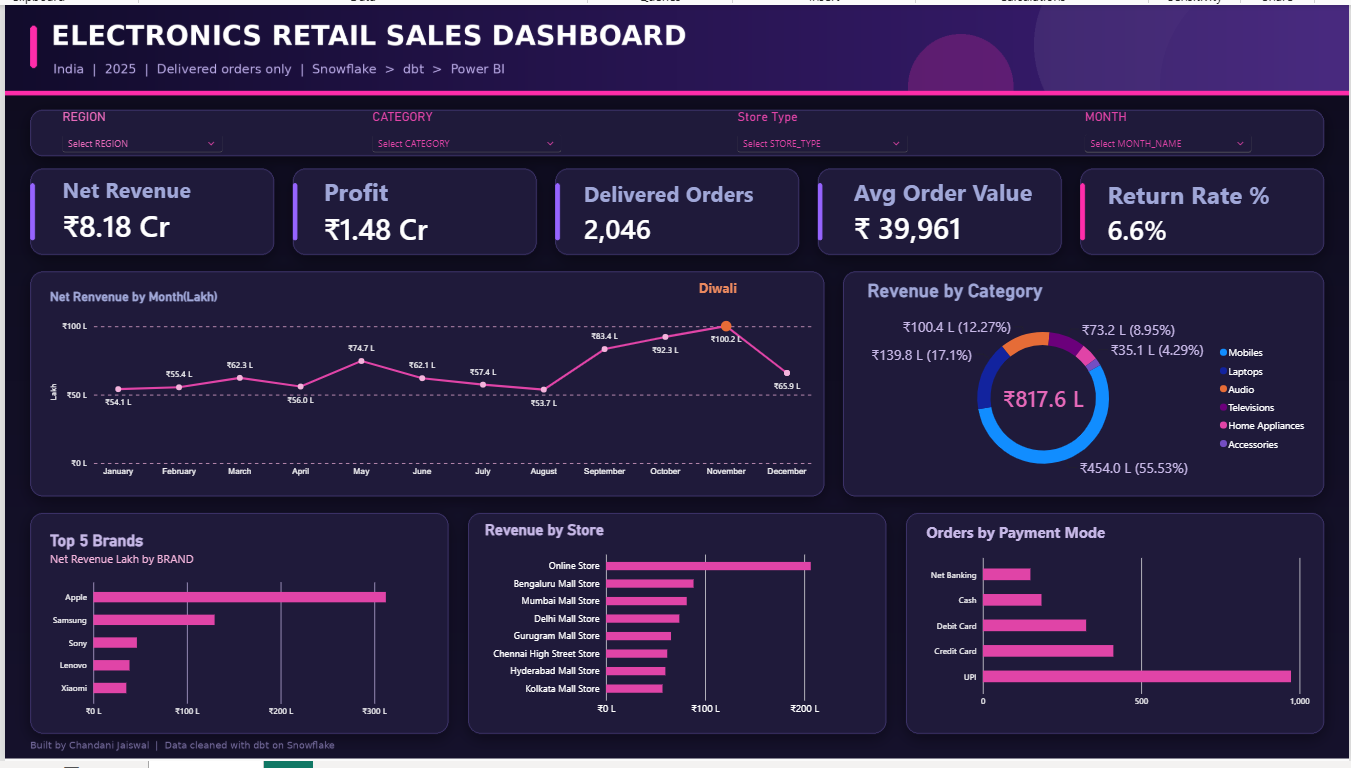

The page's visual inventory and layout, read from the dashboard file:
{"tool":"powerbi","page":{"name":"Overview","canvas":[1920,1080],"ordinal":0},"visuals":[{"type":"cardVisual","fields":{"Data":["FCT_SALES.Net cr Revenue"]},"box":[66.1,237.5,307.1,112.5],"z":0},{"type":"cardVisual","title":"Profit","fields":{"Data":["FCT_SALES.Total Cr Profit"]},"box":[439.3,239.3,300.5,112],"z":1000},{"type":"cardVisual","fields":{"Data":["FCT_SALES.Delivered Orders"]},"box":[810.7,241.1,300.5,112],"z":2000},{"type":"cardVisual","fields":{"Data":["FCT_SALES.Avg Order Value"]},"box":[1196.4,239.3,300.5,112],"z":3000},{"type":"cardVisual","fields":{"Data":["FCT_SALES.Return Rate %"]},"box":[1558.9,241.1,300.5,112],"z":4000},{"type":"lineChart","title":"Net Renvenue by Month(Lakh)","fields":{"Category":["DIM_DATE.MONTH_NAME"],"Y":["FCT_SALES.Net Revenue Lakh"]},"box":[48.2,391.1,1119.6,301.8],"z":5000},{"type":"donutChart","title":"Revenue by Category","fields":{"Category":["DIM_PRODUCTS.CATEGORY"],"Y":["FCT_SALES.Net Revenue Lakh"]},"box":[1216.1,378.6,665,320],"z":6000},{"type":"clusteredBarChart","title":"Top 5 Brands","fields":{"Category":["DIM_PRODUCTS.BRAND"],"Y":["FCT_SALES.Net Revenue Lakh"]},"box":[48.2,737.5,580.4,300],"z":7000},{"type":"clusteredBarChart","title":" Revenue by Store","fields":{"Category":["DIM_STORES.STORE_NAME"],"Y":["FCT_SALES.Net Revenue Lakh"]},"box":[670.4,723.9,580,312.6],"z":8000},{"type":"clusteredBarChart","fields":{"Category":["FCT_SALES.PAYMENT_MODE"],"Y":["FCT_SALES.Delivered Orders"]},"box":[1299.8,723.9,580.4,300],"z":9000},{"type":"textbox","box":[991.1,391.1,58.9,50],"z":9001},{"type":"listSlicer","fields":{"Values":["DIM_STORES.REGION"]},"box":[66.1,133.9,260.7,103.6],"z":9002},{"type":"listSlicer","fields":{"Values":["DIM_PRODUCTS.CATEGORY"]},"box":[508.9,133.9,301.8,78.6],"z":9003},{"type":"listSlicer","title":"Store Type","fields":{"Values":["DIM_STORES.STORE_TYPE"]},"box":[1030.4,133.9,275,89.3],"z":9004},{"type":"listSlicer","title":"MONTH","fields":{"Values":["DIM_DATE.MONTH_NAME"]},"box":[1526.8,133.9,269.6,78.6],"z":9005}]}

Visuals, with their boxes on the page's 1920x1080 design canvas (x1, y1, x2, y2). These are canvas units, not pixel positions in the 1351x768 screenshot, which may show the page scaled, cropped or inside an application window:
cardVisual - FCT_SALES.Net cr Revenue: (left=66, top=238, right=373, bottom=350)
"Profit" cardVisual: (left=439, top=239, right=740, bottom=351)
cardVisual - FCT_SALES.Delivered Orders: (left=811, top=241, right=1111, bottom=353)
cardVisual - FCT_SALES.Avg Order Value: (left=1196, top=239, right=1497, bottom=351)
cardVisual - FCT_SALES.Return Rate %: (left=1559, top=241, right=1859, bottom=353)
"Net Renvenue by Month(Lakh)" lineChart: (left=48, top=391, right=1168, bottom=693)
"Revenue by Category" donutChart: (left=1216, top=379, right=1881, bottom=699)
"Top 5 Brands" clusteredBarChart: (left=48, top=738, right=629, bottom=1038)
" Revenue by Store" clusteredBarChart: (left=670, top=724, right=1250, bottom=1036)
clusteredBarChart - FCT_SALES.PAYMENT_MODE x FCT_SALES.Delivered Orders: (left=1300, top=724, right=1880, bottom=1024)
textbox: (left=991, top=391, right=1050, bottom=441)
listSlicer - DIM_STORES.REGION: (left=66, top=134, right=327, bottom=238)
listSlicer - DIM_PRODUCTS.CATEGORY: (left=509, top=134, right=811, bottom=212)
"Store Type" listSlicer: (left=1030, top=134, right=1305, bottom=223)
"MONTH" listSlicer: (left=1527, top=134, right=1796, bottom=212)
